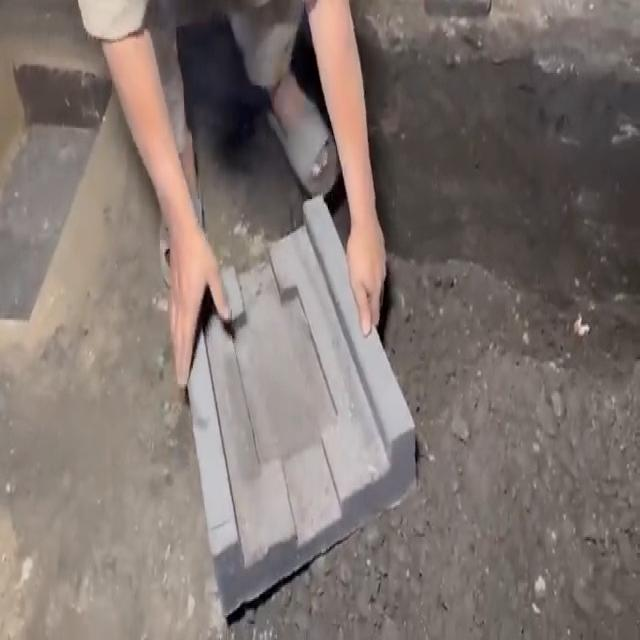dress: (86, 18, 295, 370), (276, 159, 319, 299), (102, 56, 125, 70), (296, 258, 298, 272)
